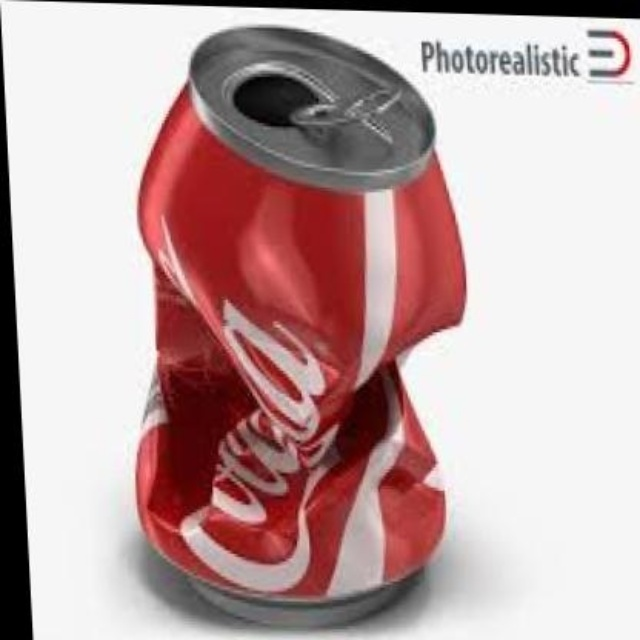trash: (137, 26, 465, 625)
